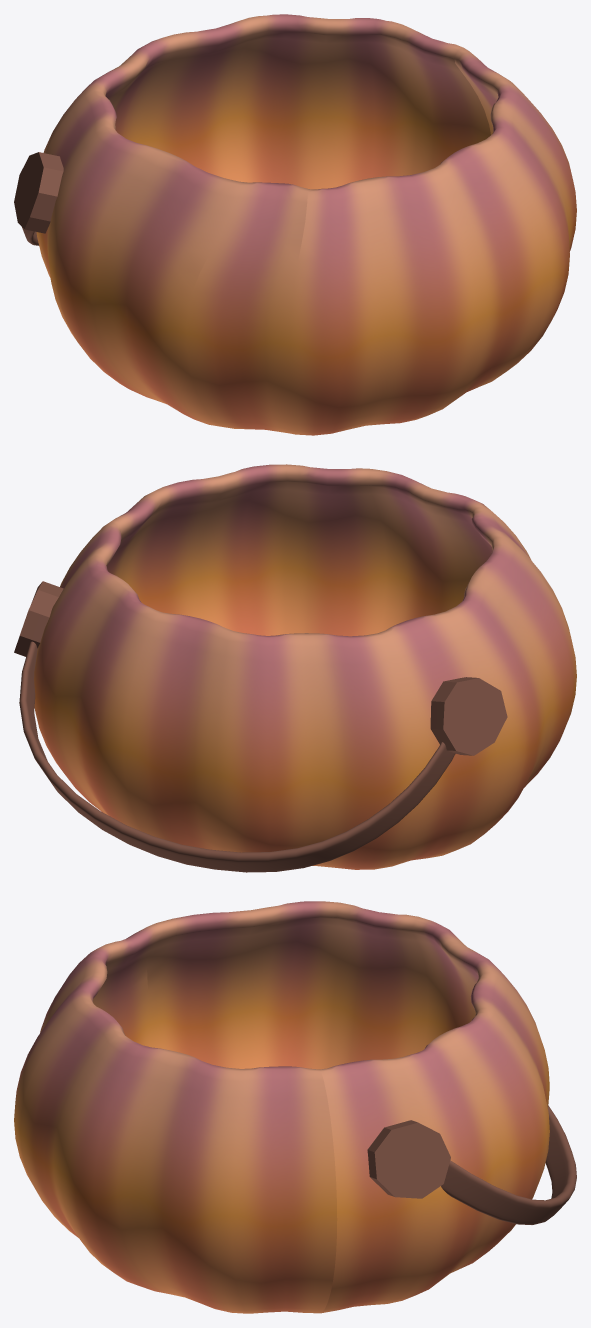
The model's file is halloween_basket.fbx.
3 views of the same model, one above another, from view 1: azimuth 30°, elevation 25°; view 2: azimuth 150°, elevation 25°; view 3: azimuth 270°, elevation 25° (orthographic).
Visible parts, largest first — view 1: Sphere, BézierCurve; view 2: Sphere, BézierCurve; view 3: Sphere, BézierCurve.
Boxes of the visible parts, x1=… form: Sphere: x1=36, y1=14, x2=576, y2=435; BézierCurve: x1=14, y1=152, x2=63, y2=245; Sphere: x1=34, y1=464, x2=576, y2=869; BézierCurve: x1=14, y1=581, x2=507, y2=872; Sphere: x1=14, y1=901, x2=549, y2=1313; BézierCurve: x1=367, y1=1105, x2=576, y2=1224.
Size of the model in its own units: 261 by 147 by 272.
